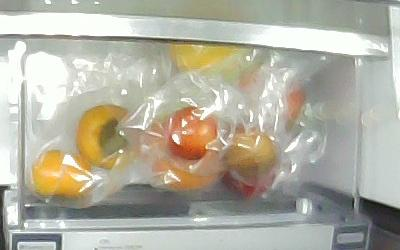apple_vinyl: (215, 122, 282, 200)
grapefruit_vinyl: (167, 42, 247, 82)
persimmon_vinyl: (77, 105, 141, 169), (33, 151, 93, 199)
prune_vinyl: (167, 107, 219, 160)
